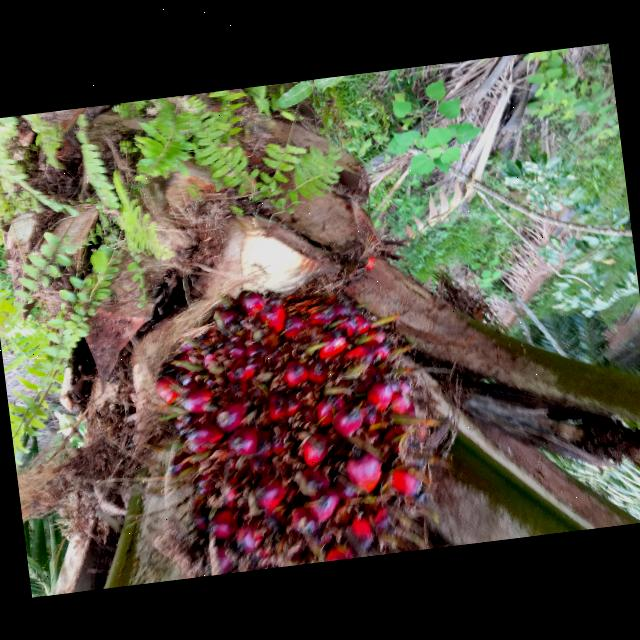Unripe: (155, 291, 430, 571)
